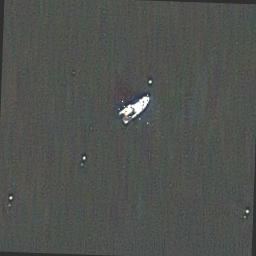boat: (118, 92, 149, 124)
